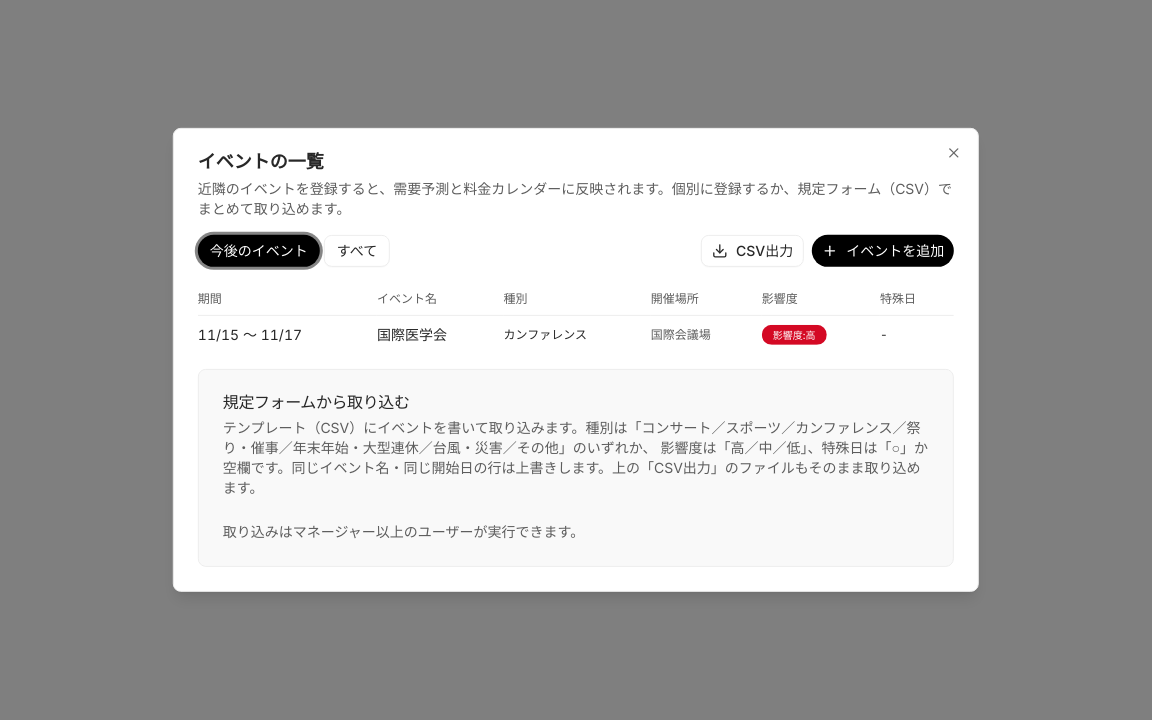
Test: EventsDialog › 既定は今後のイベントだけ。「すべて」で過去も出る
Check: the text "国際医学会" is shown, box [377,315,504,353]
Check: the text "春の祭り" is not shown
Click the button "すべて": (357, 251) [324,235,390,267]
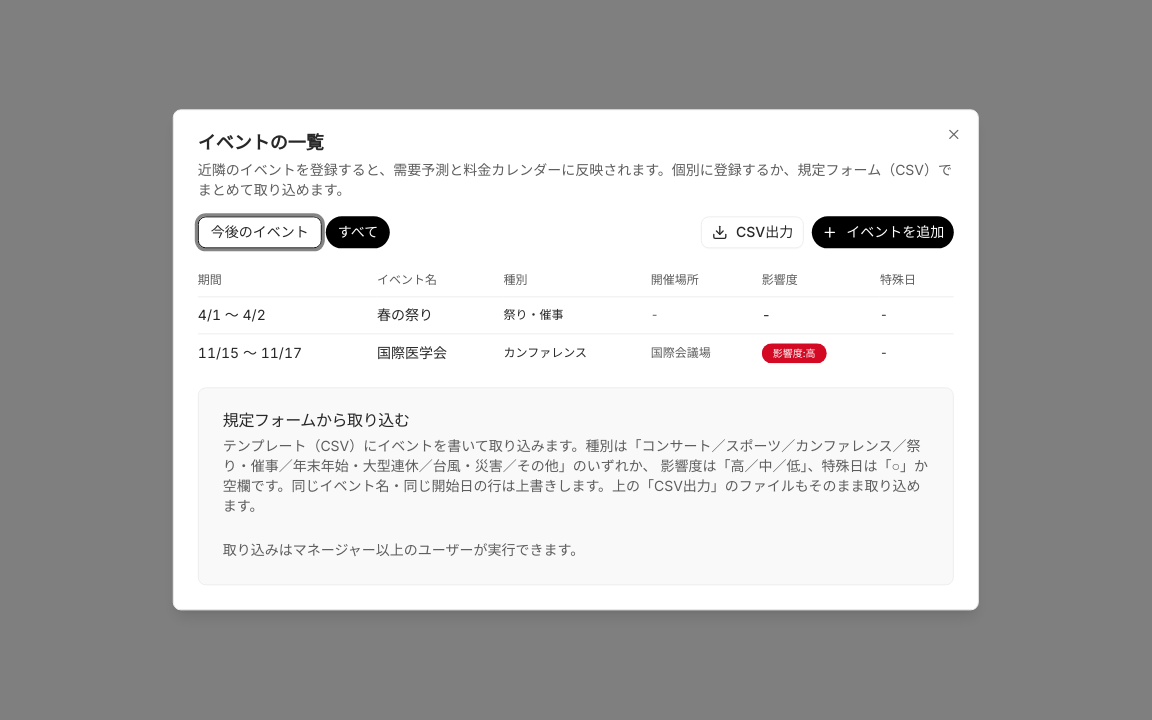
Check: the text "春の祭り" is shown, box [377,297,504,334]
